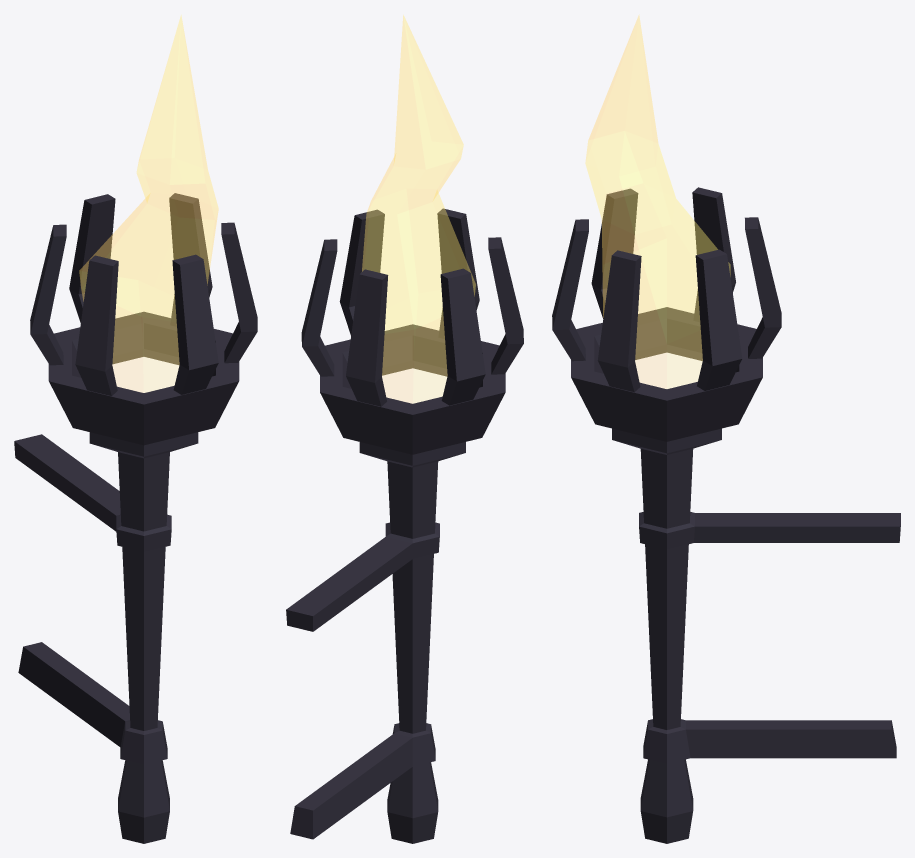
The model's file is torch.glb.
3 views of the same model, side by side, from view 1: azimuth 30°, elevation 25°; view 2: azimuth 150°, elevation 25°; view 3: azimuth 270°, elevation 25° (orthographic). The views are drawn at different scales.
Parts seen in each view (by area): view 1: Torch; view 2: Torch; view 3: Torch.
Boxes of the visible parts, left/top/right/bottom form: Torch: left=14, top=15, right=257, bottom=843; Torch: left=286, top=15, right=523, bottom=843; Torch: left=552, top=15, right=900, bottom=843.
Size of the model in its own units: 0.2783 by 1.15 by 0.4376.
